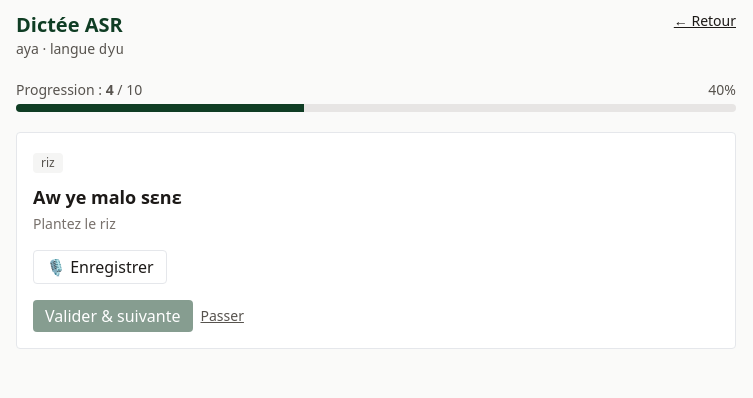
it: DictationView — envoi de l'extrait › poste l'audio de la phrase courante et avance dans la file
Click the button "🎙️ Enregistrer": x=100, y=267 [33,250,167,284]
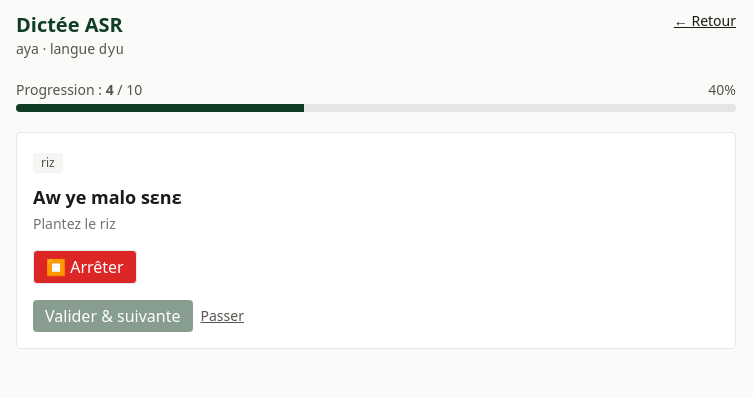
Click the button "⏹️ Arrêter": x=85, y=267 [33,250,137,284]
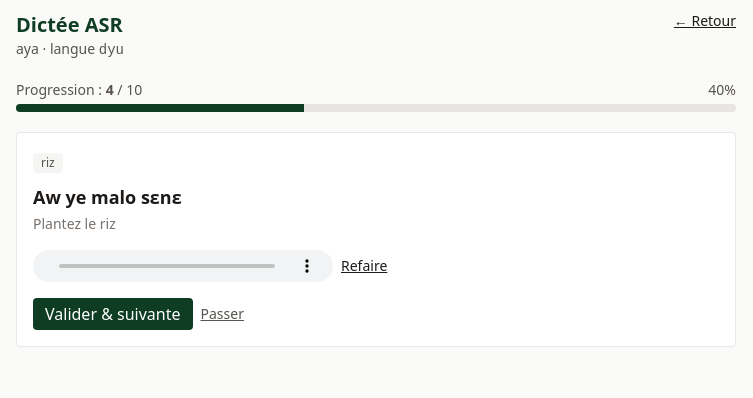
Click the button "Valider & suivante": x=113, y=314 [33,298,192,330]
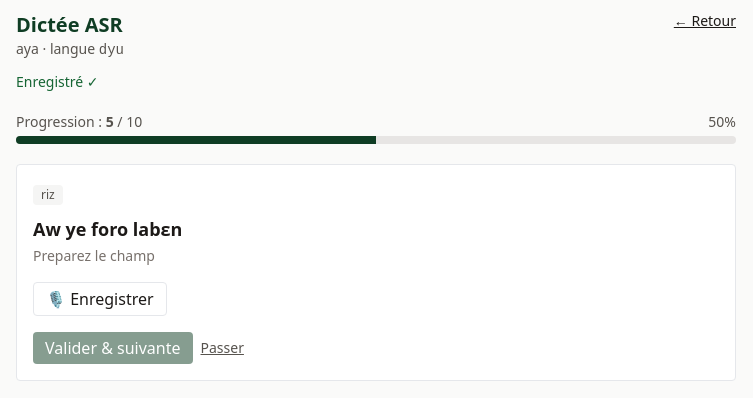
Check: the text "Enregistré ✓" is shown, box [16,72,99,91]
Check: the text "5 / 10" is shown, box [16,112,142,132]
Check: the text "Aw ye foro labɛn" is shown, box [33,217,182,241]
